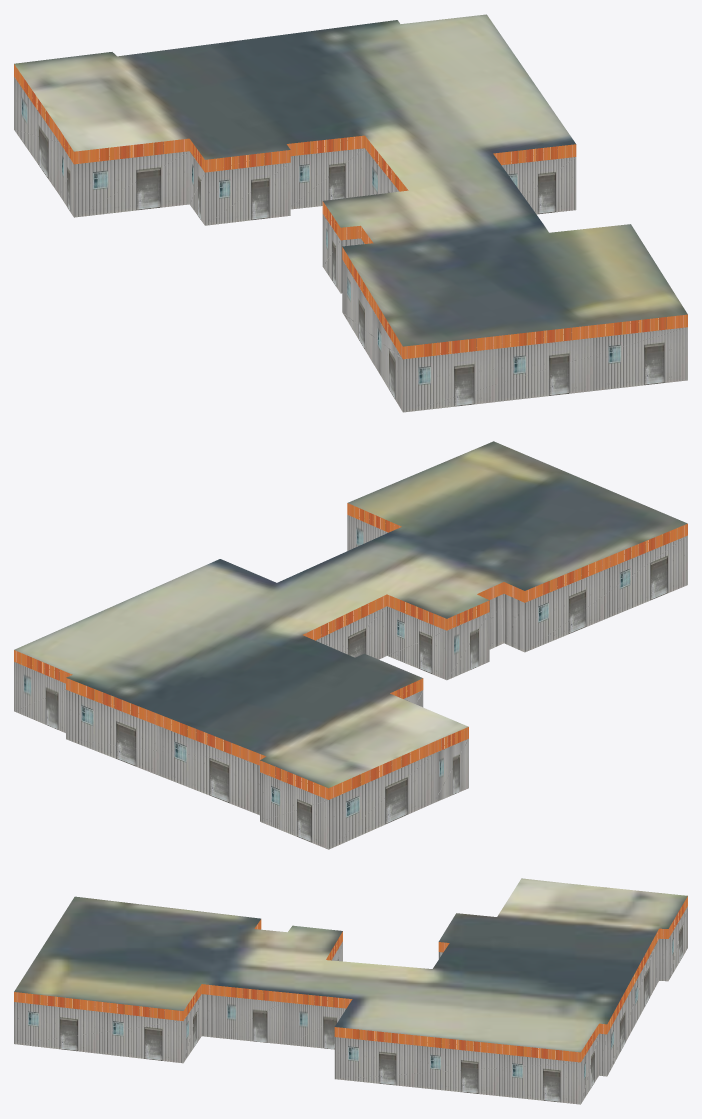
Rendered from T_1T3BE4NTVQ.dae.
The picture shows the model from 3 angles, top to bottom: view 1: azimuth 30°, elevation 25°; view 2: azimuth 150°, elevation 25°; view 3: azimuth 270°, elevation 25°; orthographic projection. The views are drawn at different scales.
Parts seen in each view (by area): view 1: SketchUp (×3); view 2: SketchUp (×3); view 3: SketchUp (×3).
Boxes of the visible parts, left/top/right/bottom form: SketchUp (×3): left=14, top=14, right=687, bottom=412; SketchUp (×3): left=14, top=441, right=687, bottom=849; SketchUp (×3): left=14, top=878, right=687, bottom=1104.
Size of the model in its own units: 1151 by 1884 by 161.
Materials: 3 (3 with a texture image).
